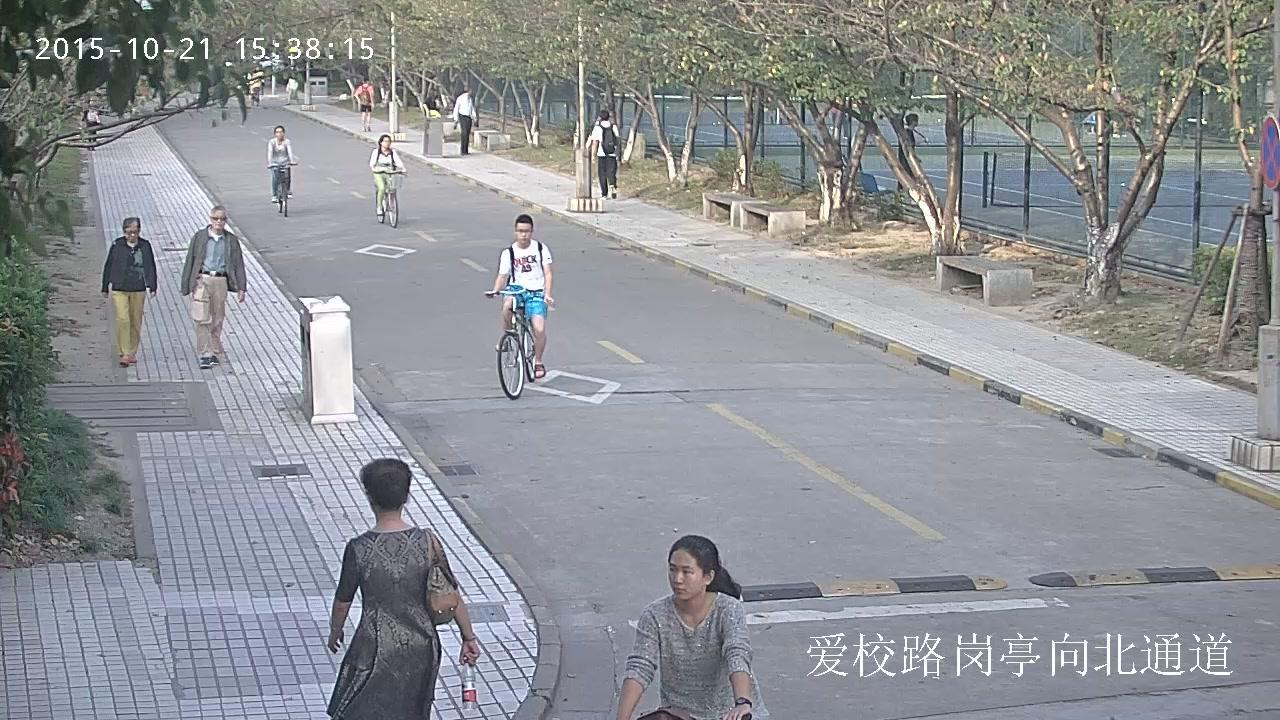face: (668, 548, 703, 600), (516, 223, 531, 244), (212, 210, 225, 229), (125, 227, 137, 241), (275, 128, 283, 138), (382, 137, 389, 147), (915, 116, 918, 126), (468, 87, 471, 94)
